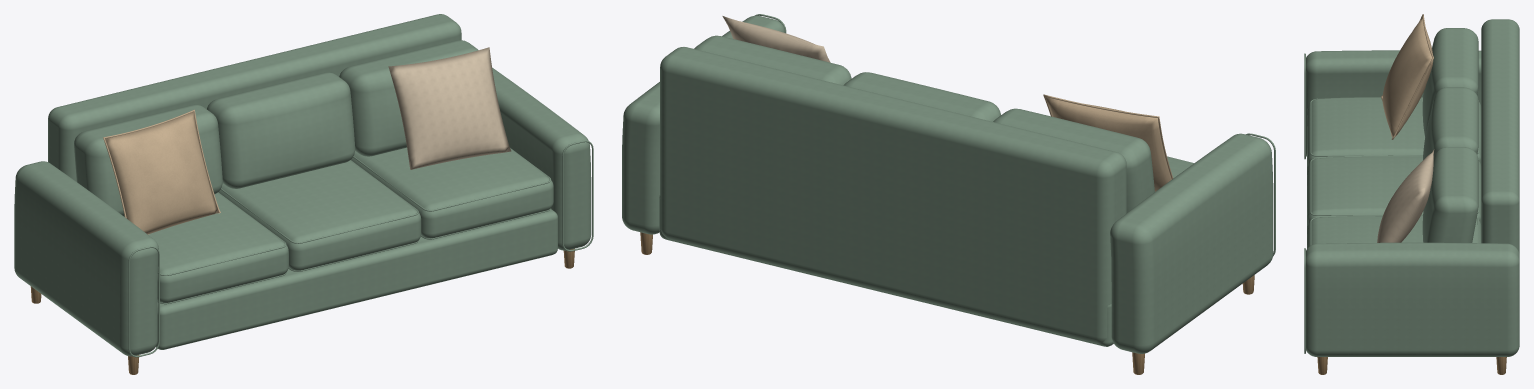
3 renders of one model, left to right at view 1: azimuth 30°, elevation 25°; view 2: azimuth 150°, elevation 25°; view 3: azimuth 270°, elevation 25°, orthographic. The views are drawn at different scales.
Visible parts, largest first — view 1: arm_-1, plinth, back_frame, seat_cushion_1, back_cushion_1, seat_cushion_2, scatter_cushion_1, scatter_cushion_0, seat_cushion_0, arm_1, back_cushion_2, back_cushion_0 (+4 smaller); view 2: back_frame, arm_-1, arm_1, back_cushion_0, scatter_cushion_0, back_cushion_1, back_cushion_2, scatter_cushion_1, plinth; view 3: arm_1, back_frame, seat_cushion_0, seat_cushion_1, back_cushion_2, arm_-1, scatter_cushion_0, back_cushion_0, back_cushion_1, scatter_cushion_1, seat_cushion_2, seat_cushion_0_welt_top (+4 smaller).
Boxes of the visible parts, <box> form: arm_-1: <box>14,161,158,356</box>; plinth: <box>156,209,557,349</box>; back_frame: <box>48,14,461,181</box>; seat_cushion_1: <box>218,160,421,270</box>; back_cushion_1: <box>207,72,355,188</box>; seat_cushion_2: <box>351,147,553,238</box>; scatter_cushion_1: <box>388,47,511,169</box>; scatter_cushion_0: <box>105,111,219,234</box>; seat_cushion_0: <box>148,192,288,302</box>; arm_1: <box>492,67,591,250</box>; back_cushion_2: <box>339,40,478,156</box>; back_cushion_0: <box>74,104,222,216</box>; back_frame: <box>660,47,1126,343</box>; arm_-1: <box>1110,133,1273,353</box>; arm_1: <box>622,15,785,234</box>; back_cushion_0: <box>993,108,1154,212</box>; scatter_cushion_0: <box>1046,97,1171,191</box>; back_cushion_1: <box>843,72,1000,121</box>; back_cushion_2: <box>694,35,851,85</box>; scatter_cushion_1: <box>722,16,830,62</box>; plinth: <box>659,195,1113,346</box>; arm_1: <box>1306,242,1519,356</box>; back_frame: <box>1481,19,1519,253</box>; seat_cushion_0: <box>1307,97,1481,167</box>; seat_cushion_1: <box>1307,156,1481,227</box>; back_cushion_2: <box>1422,147,1478,242</box>; arm_-1: <box>1306,50,1481,156</box>; scatter_cushion_0: <box>1382,17,1433,137</box>; back_cushion_0: <box>1422,28,1478,137</box>; back_cushion_1: <box>1423,87,1478,159</box>; scatter_cushion_1: <box>1377,149,1434,242</box>; seat_cushion_2: <box>1307,216,1481,248</box>; seat_cushion_0_welt_top: <box>1310,98,1478,156</box>.
Bounding box in the file's own units: 2.2 × 0.85 × 0.95.
Materials: 4 (4 with a texture image).
